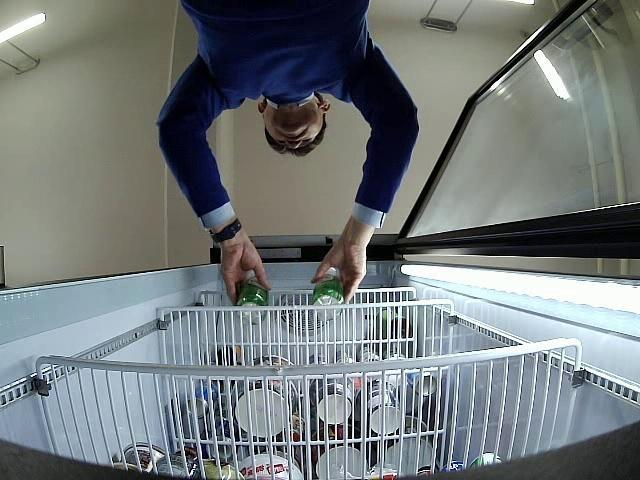18_trevi: (312, 268, 344, 320), (235, 275, 267, 324)
